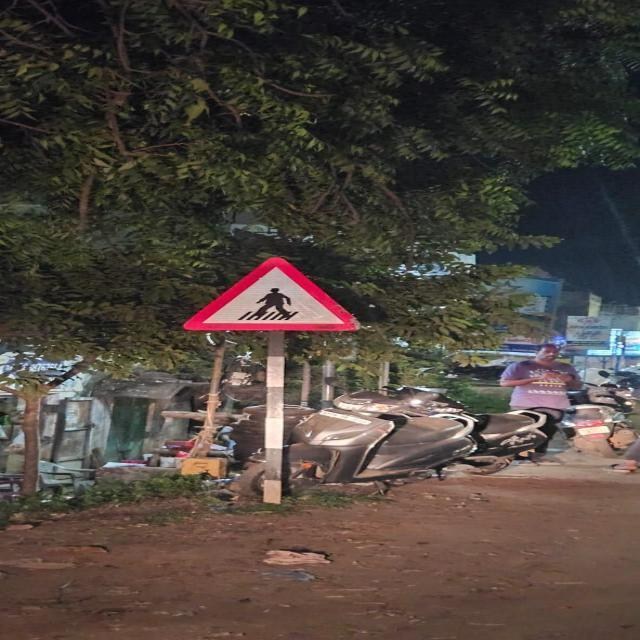pedestrian crossing: (180, 252, 364, 333)
